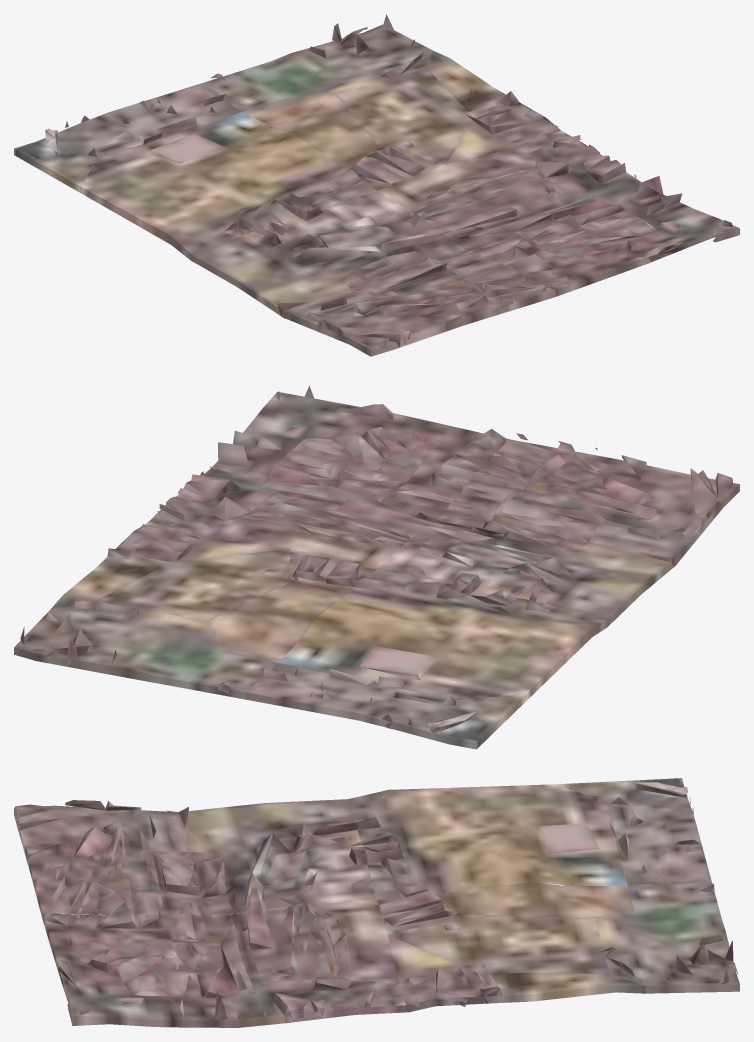
The picture shows the model from 3 angles, top to bottom: view 1: azimuth 30°, elevation 25°; view 2: azimuth 150°, elevation 25°; view 3: azimuth 270°, elevation 25°; orthographic projection. The views are drawn at different scales.
Parts seen in each view (by area): view 1: Mesh_0; view 2: Mesh_0; view 3: Mesh_0.
Boxes of the visible parts, <box> form: Mesh_0: <box>14,14,739,356</box>; Mesh_0: <box>14,386,739,749</box>; Mesh_0: <box>14,778,739,1027</box>.
Size of the model in its own units: 1064 by 89.1 by 1317.
Materials: 1 (1 with a texture image).
